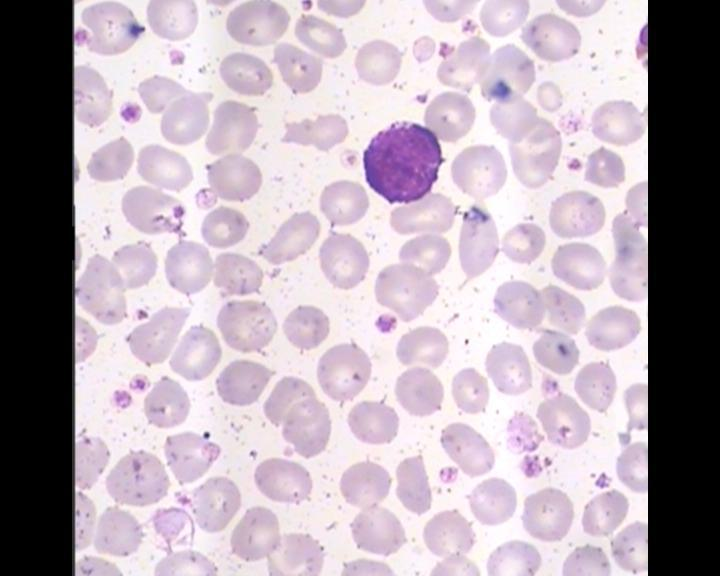baso: (354, 114, 446, 205)
